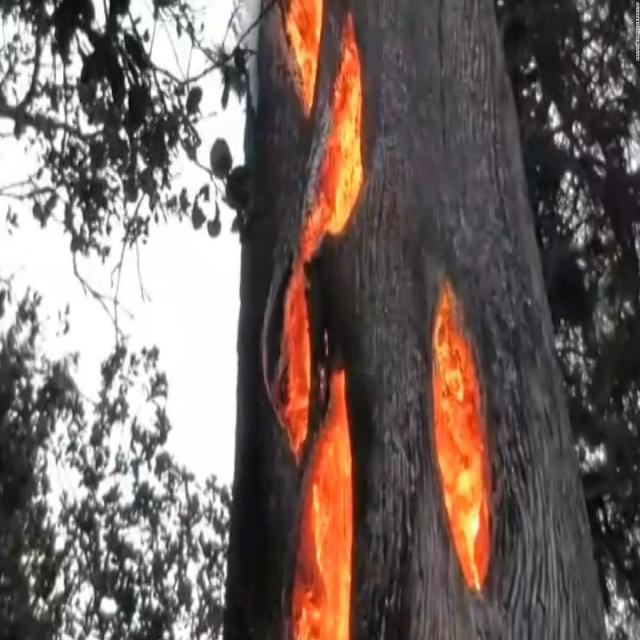Fire: (261, 7, 488, 639)
